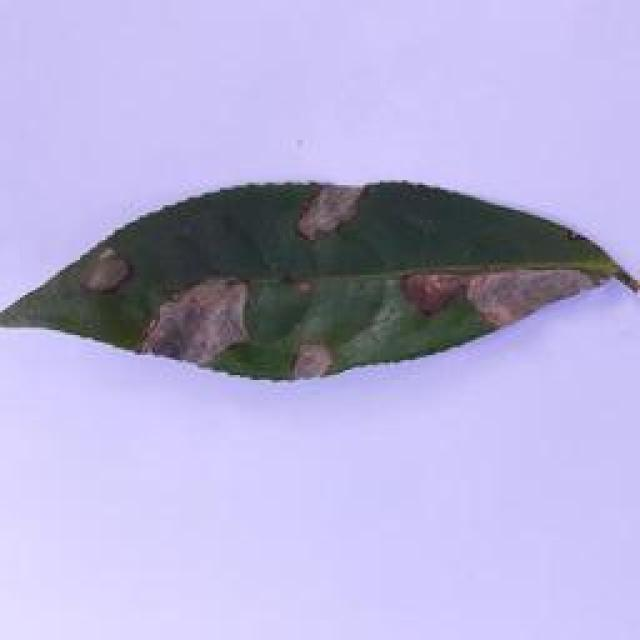Gray Blight: (0, 163, 640, 403)
